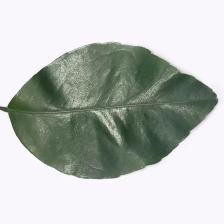healthy: (8, 47, 193, 182)
